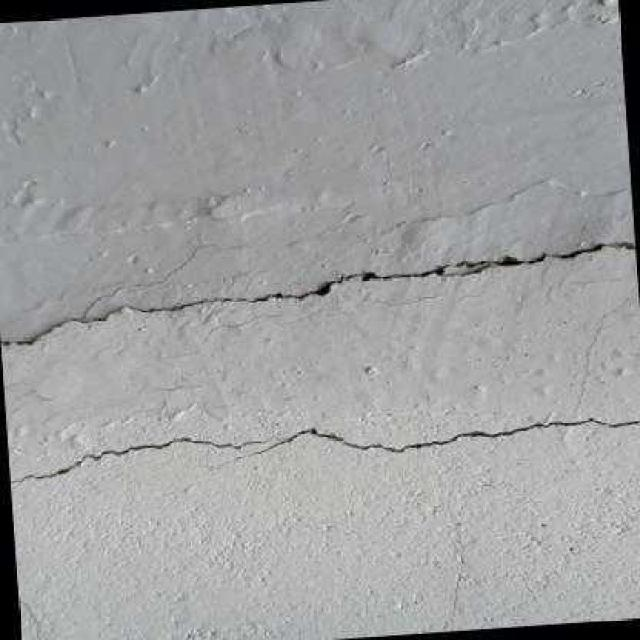D00: (301, 241, 636, 298), (1, 289, 290, 348), (256, 417, 640, 452), (10, 435, 280, 481)
